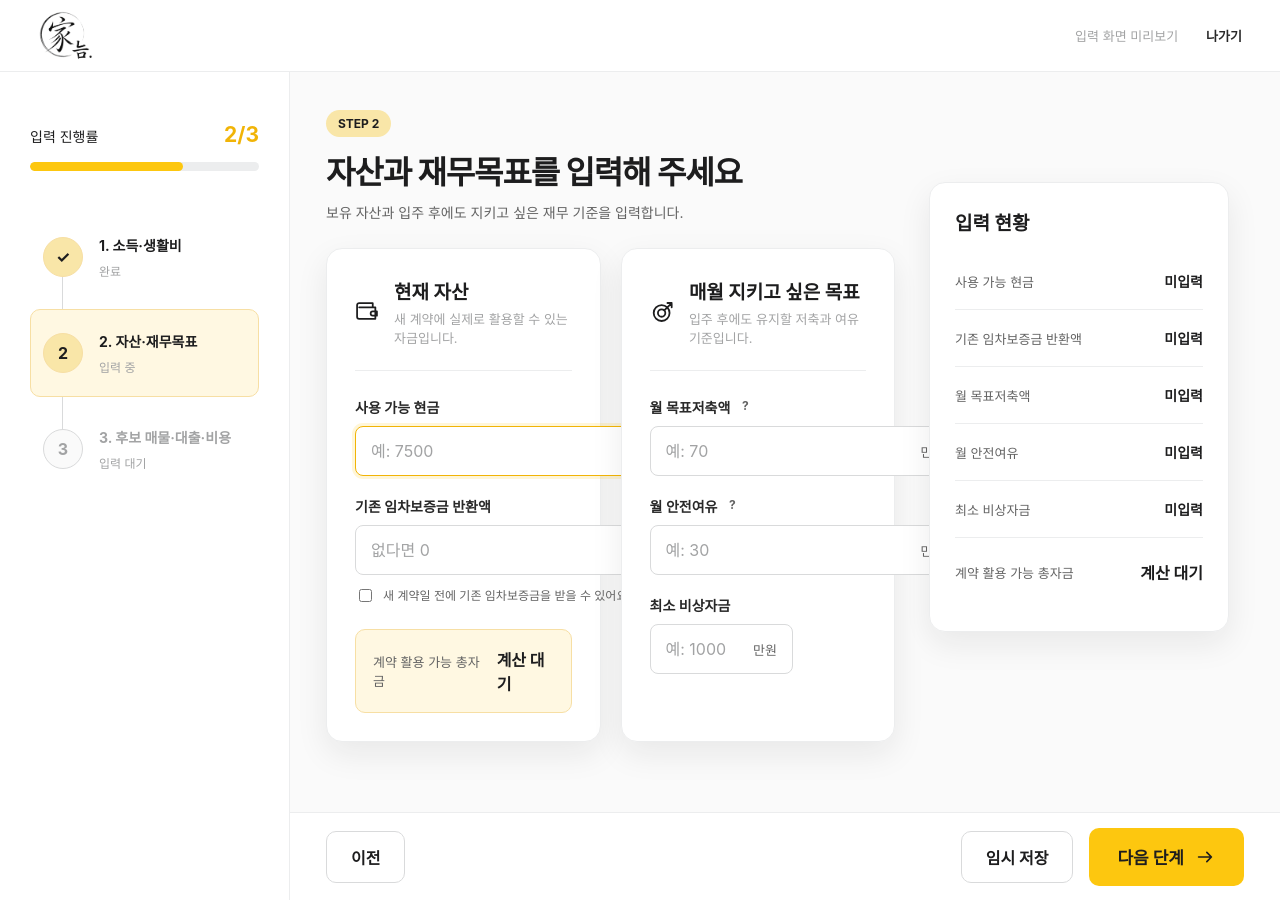
Test: FinancialGoalsPage › 필수 금액을 입력하지 않으면 오류를 안내한다
Click the button "다음 단계" at (1167, 856), box [1089,828,1244,886]
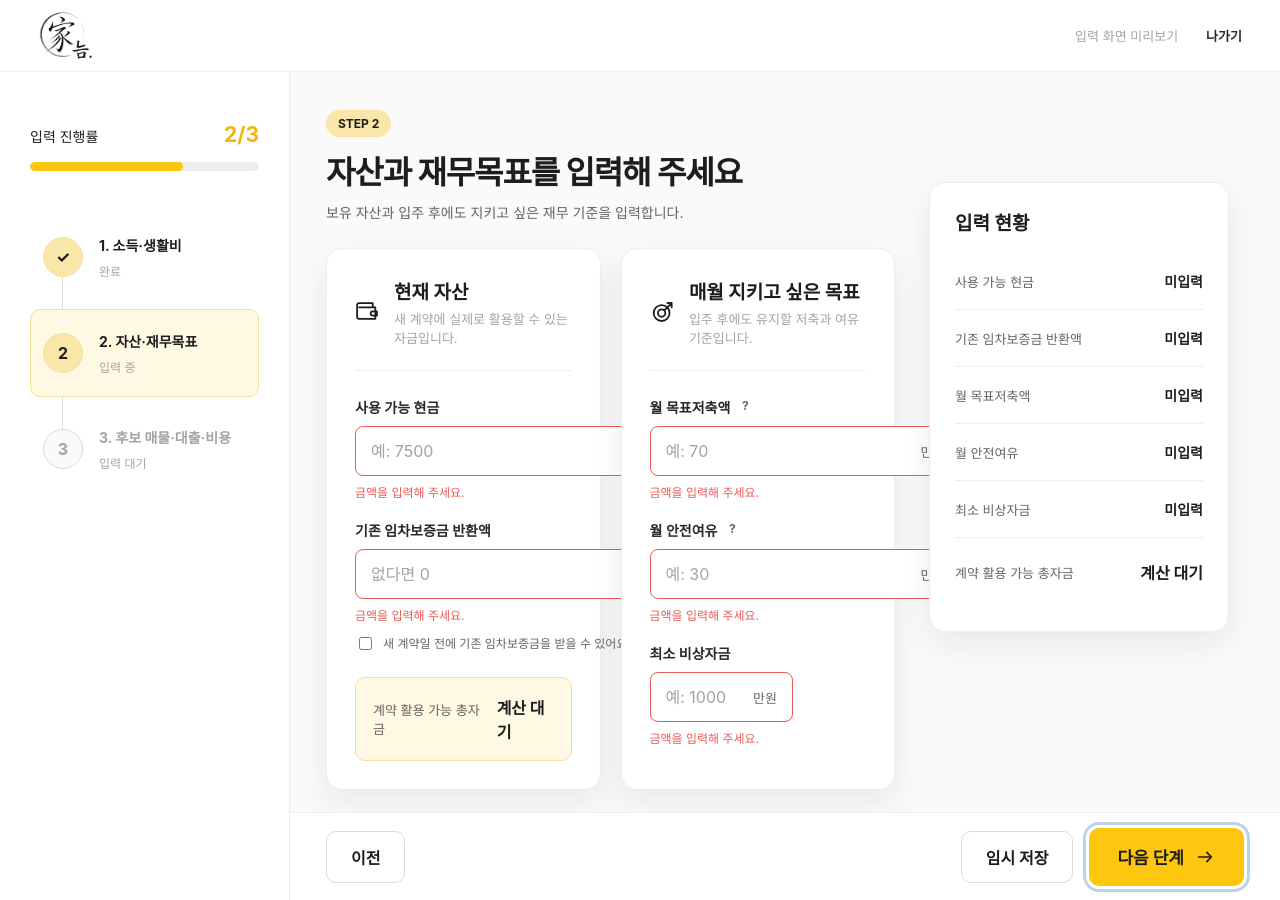
Now the text "금액을 입력해 주세요." is shown 5 times, box [355,485,465,500]; [355,608,465,623]; [650,485,759,500]; [650,608,759,623]; [650,731,759,746]
